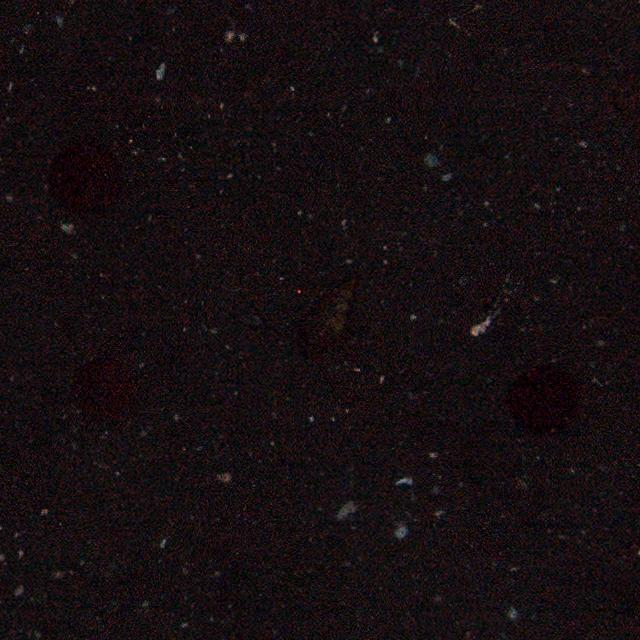whelk: (294, 277, 357, 349)
